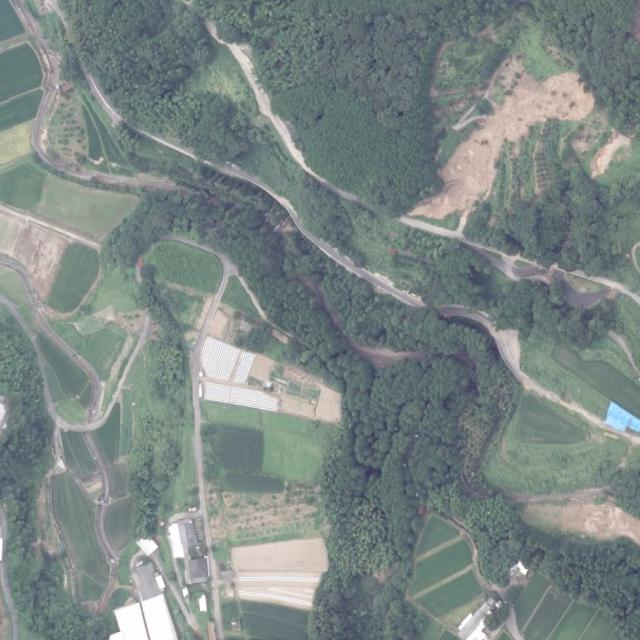landslide: (410, 56, 595, 219)
